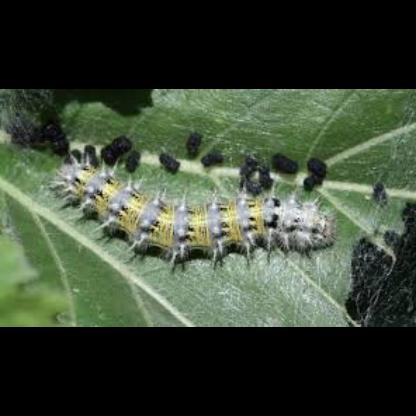oruga: (42, 164, 344, 258)
